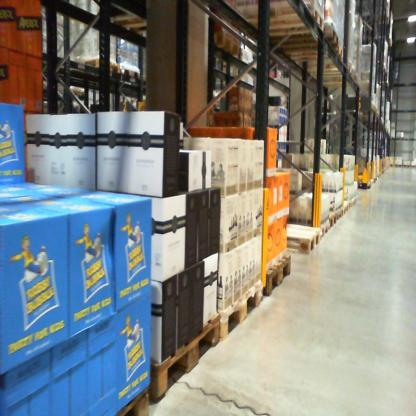pallet: (149, 305, 229, 406), (217, 277, 263, 349), (210, 3, 321, 32), (183, 30, 244, 73), (258, 26, 341, 54), (262, 248, 298, 301), (120, 363, 155, 415), (283, 216, 322, 258), (283, 45, 345, 69), (71, 58, 122, 72), (310, 61, 356, 76), (324, 210, 338, 230), (118, 64, 139, 77), (318, 216, 330, 237), (332, 206, 343, 221), (339, 198, 349, 214)
